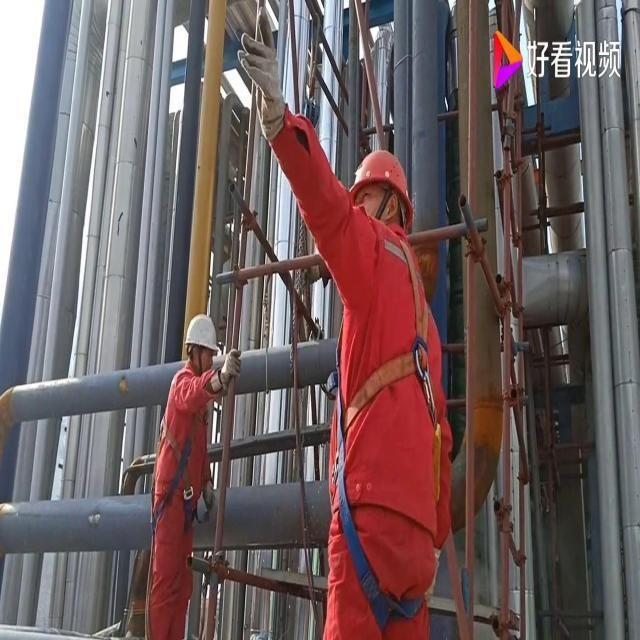Arnes_seguridad: (327, 224, 450, 450), (147, 365, 210, 535)
